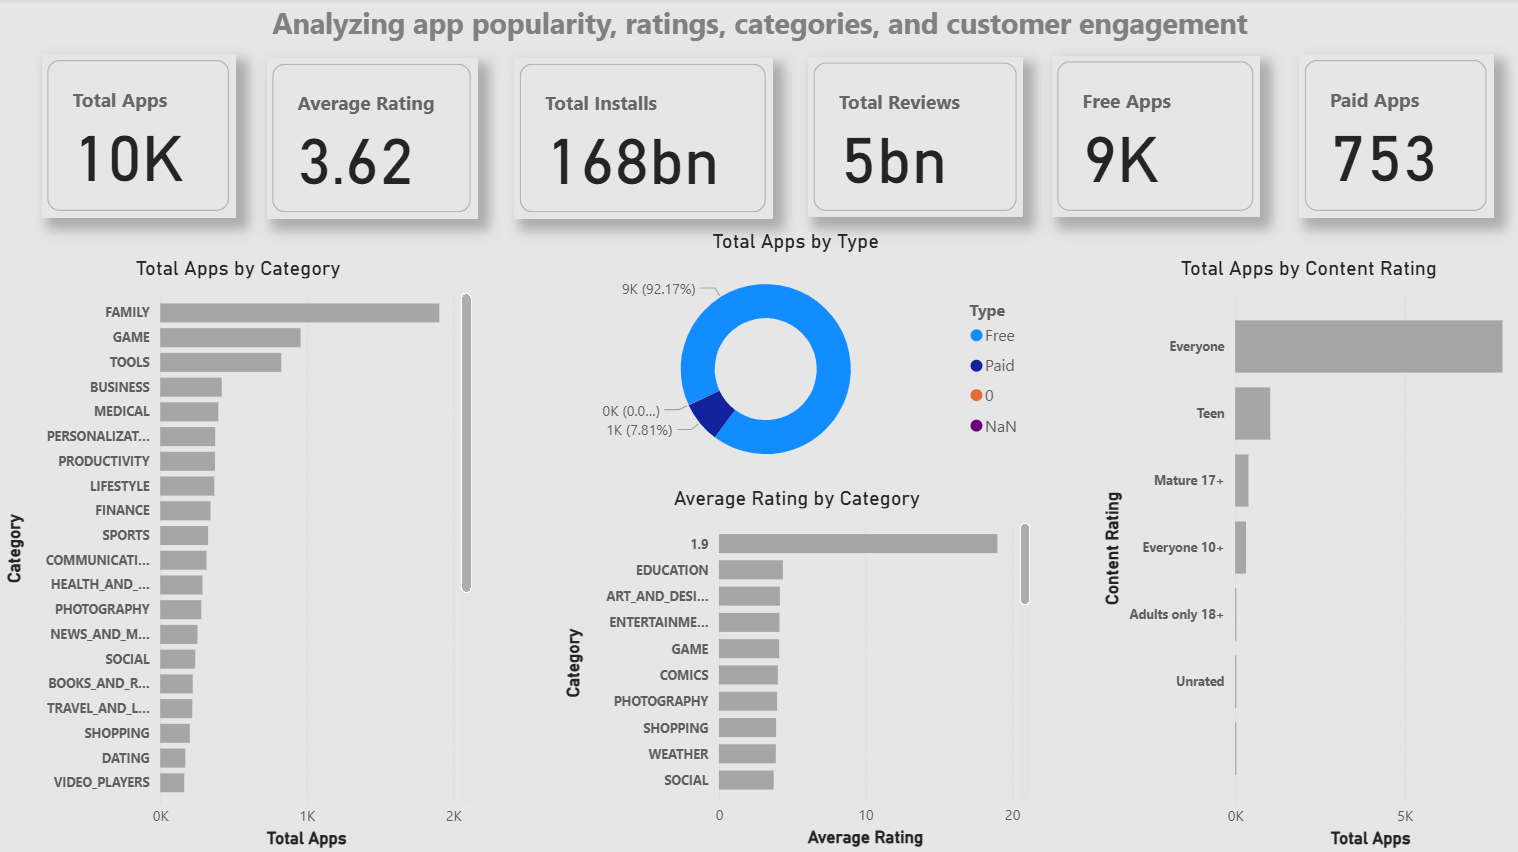

The page's visual inventory and layout, read from the dashboard file:
{"tool":"powerbi","page":{"name":"App Performance Overview","canvas":[1280,720],"ordinal":0},"visuals":[{"type":"textbox","box":[0,0,1280.2,47.7],"z":0},{"type":"cardVisual","fields":{"Data":["googleplaystore.Total Apps"]},"box":[36,47.7,164,137.2],"z":1000},{"type":"cardVisual","fields":{"Data":["googleplaystore.Average Rating"]},"box":[224.7,50.6,177.6,135.3],"z":2000},{"type":"cardVisual","fields":{"Data":["googleplaystore.Total Installs"]},"box":[432.9,50.6,217.6,135.3],"z":3000},{"type":"cardVisual","fields":{"Data":["googleplaystore.Total Reviews"]},"box":[680,49.4,181.2,135.3],"z":4000},{"type":"cardVisual","fields":{"Data":["googleplaystore.Free Apps"]},"box":[884.9,48.8,175.6,136],"z":5000},{"type":"cardVisual","fields":{"Data":["googleplaystore.Paid Apps"]},"box":[1093,47.7,164,137.2],"z":6000},{"type":"clusteredBarChart","fields":{"Category":["googleplaystore.Category"],"Y":["googleplaystore.Total Apps"]},"box":[0,216.3,402.3,503.5],"z":7000},{"type":"clusteredBarChart","fields":{"Category":["googleplaystore.Category"],"Y":["googleplaystore.Average Rating"]},"box":[469.8,410.5,402.3,309.3],"z":8000},{"type":"donutChart","fields":{"Category":["googleplaystore.Type"],"Y":["googleplaystore.Total Apps"]},"box":[469.4,194.1,402.4,216.5],"z":9000},{"type":"barChart","fields":{"Y":["googleplaystore.Total Apps"],"Category":["googleplaystore.Content Rating"]},"box":[923.3,216.3,357,503.5],"z":10000}]}

Visuals, with their boxes in screenshot pixels (x1, y1, x2, y2), scaled from the page's 1280x720 canvas onto the 1518x852 screenshot:
textbox: (left=0, top=0, right=1517, bottom=56)
cardVisual - googleplaystore.Total Apps: (left=43, top=56, right=237, bottom=219)
cardVisual - googleplaystore.Average Rating: (left=266, top=60, right=477, bottom=220)
cardVisual - googleplaystore.Total Installs: (left=513, top=60, right=771, bottom=220)
cardVisual - googleplaystore.Total Reviews: (left=806, top=58, right=1021, bottom=219)
cardVisual - googleplaystore.Free Apps: (left=1049, top=58, right=1258, bottom=219)
cardVisual - googleplaystore.Paid Apps: (left=1296, top=56, right=1491, bottom=219)
clusteredBarChart - googleplaystore.Category x googleplaystore.Total Apps: (left=0, top=256, right=477, bottom=851)
clusteredBarChart - googleplaystore.Category x googleplaystore.Average Rating: (left=557, top=486, right=1034, bottom=851)
donutChart - googleplaystore.Type x googleplaystore.Total Apps: (left=557, top=230, right=1034, bottom=486)
barChart - googleplaystore.Total Apps x googleplaystore.Content Rating: (left=1095, top=256, right=1517, bottom=851)
